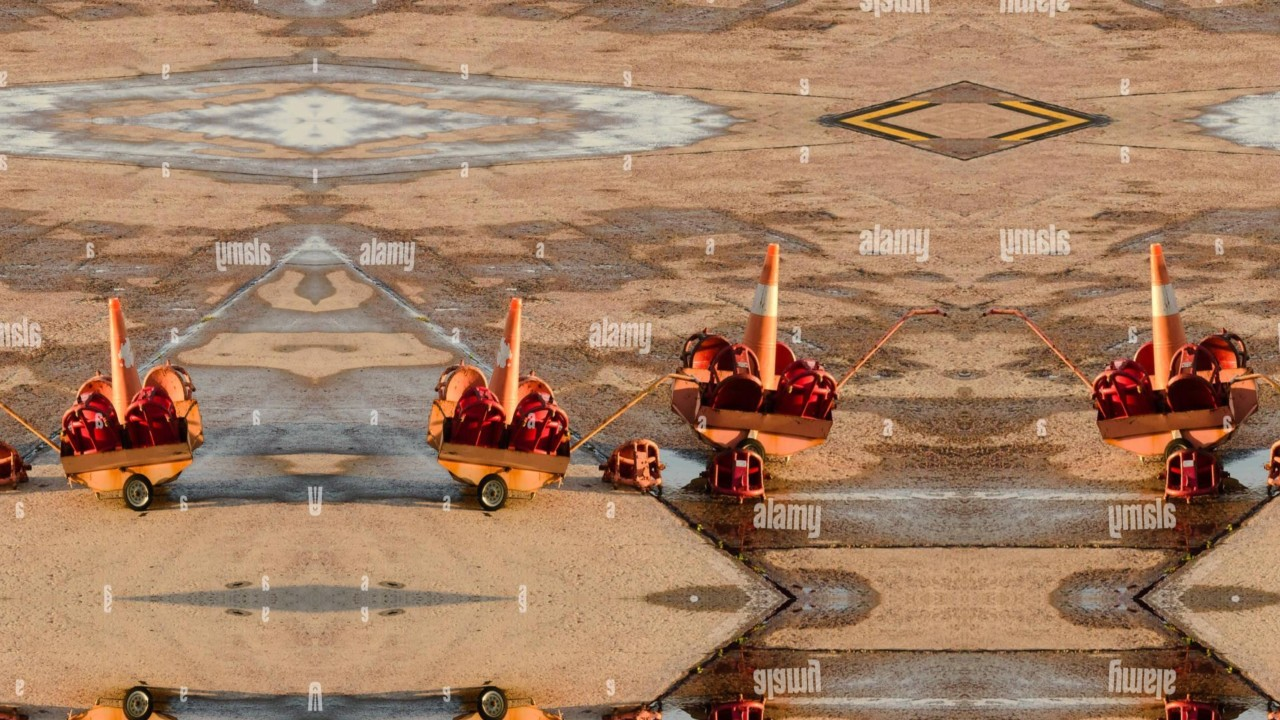chock: (598, 435, 672, 497), (704, 343, 768, 412), (1162, 343, 1226, 412), (57, 387, 121, 455), (509, 387, 573, 455), (776, 360, 840, 421), (1090, 360, 1154, 421), (121, 383, 178, 449), (452, 383, 509, 449), (703, 445, 768, 500), (1162, 445, 1227, 500), (680, 325, 738, 373), (1192, 325, 1250, 373), (140, 358, 195, 403), (435, 358, 490, 403), (0, 435, 32, 497), (70, 371, 114, 416), (516, 371, 560, 416), (703, 698, 768, 720), (1162, 698, 1227, 720), (598, 701, 672, 720), (1258, 435, 1280, 497), (775, 336, 802, 373), (1128, 336, 1155, 373), (0, 701, 32, 720)
wheel: (121, 473, 155, 513), (475, 473, 509, 513), (732, 437, 769, 472), (1161, 437, 1198, 472), (121, 685, 155, 720), (475, 685, 509, 720)
